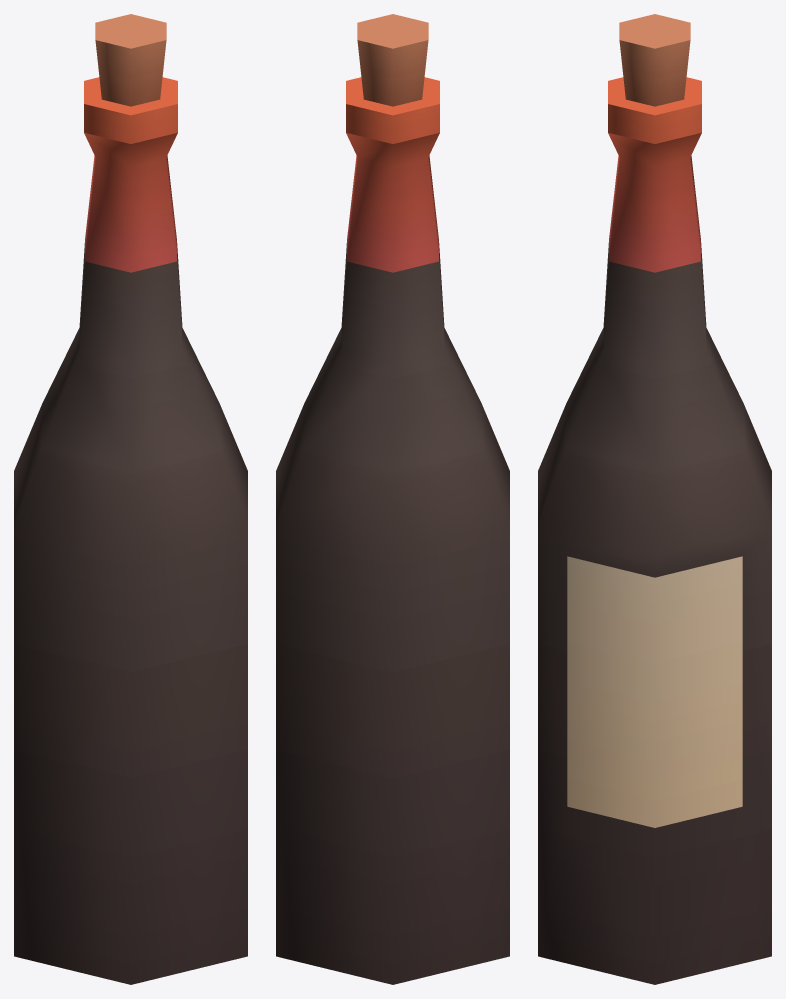
File: wine_bottle.glb
3 views of the same model, side by side, from view 1: azimuth 30°, elevation 25°; view 2: azimuth 150°, elevation 25°; view 3: azimuth 270°, elevation 25° (orthographic).
Visible parts, largest first — view 1: wine-red; view 2: wine-red; view 3: wine-red.
Part boxes in pixels (box(x1,y1,x2,y2)): wine-red: box(14, 14, 247, 984); wine-red: box(276, 14, 509, 984); wine-red: box(538, 14, 771, 984).
Size of the model in its own units: 0.1908 by 0.6989 by 0.1653.
Materials: 1 (1 with a texture image).
